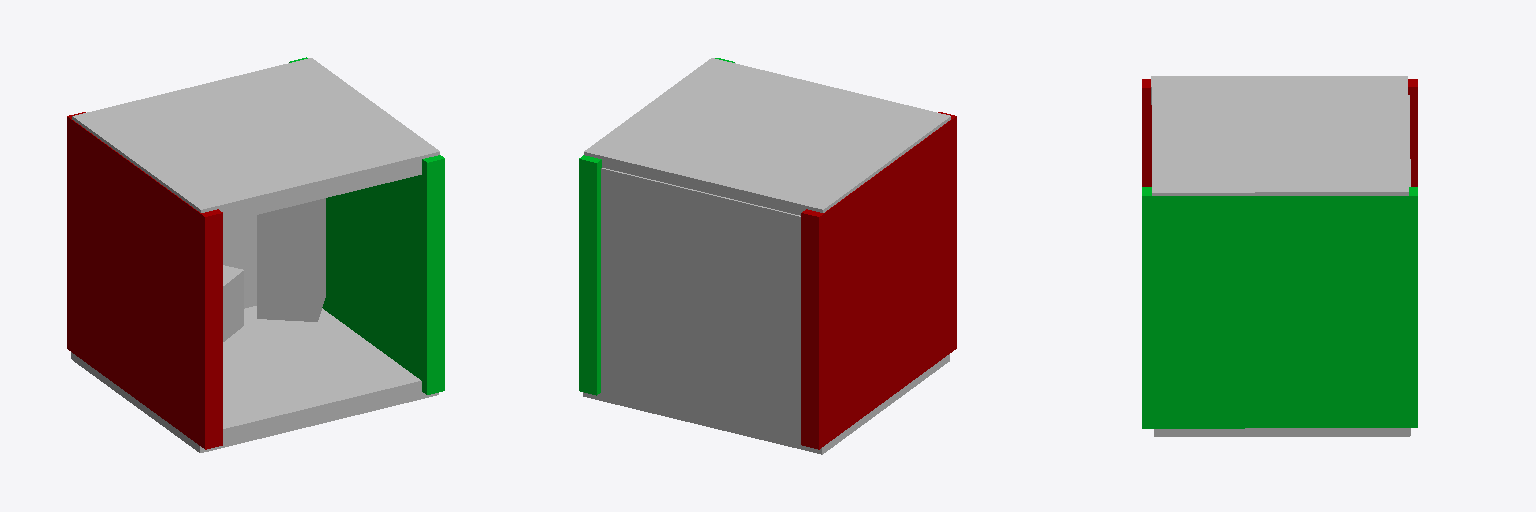
File: mocheng.obj
3 views of the same model, side by side, from view 1: azimuth 30°, elevation 25°; view 2: azimuth 150°, elevation 25°; view 3: azimuth 270°, elevation 25° (orthographic).
Visible parts, largest first — view 1: left_left, top_top, right_right, bottom_bottom, longcube_longcube, behind_behind, Cube_Cube; view 2: behind_behind, left_left, top_top, right_right, bottom_bottom; view 3: right_right, top_top, bottom_bottom, left_left.
Boxes of the visible parts, x1,y1,x2,y2 form: left_left: [67, 112, 222, 449]; top_top: [72, 58, 439, 222]; right_right: [289, 57, 444, 394]; bottom_bottom: [72, 306, 438, 452]; longcube_longcube: [257, 198, 325, 321]; behind_behind: [71, 215, 256, 366]; Cube_Cube: [223, 265, 243, 341]; behind_behind: [583, 168, 832, 454]; left_left: [801, 112, 956, 449]; top_top: [584, 58, 950, 215]; right_right: [579, 58, 734, 395]; bottom_bottom: [599, 354, 949, 454]; right_right: [1142, 187, 1417, 428]; top_top: [1151, 76, 1408, 195]; bottom_bottom: [1154, 428, 1409, 436]; left_left: [1142, 79, 1417, 186].
Size of the model in its own units: 9.02 by 8.75 by 8.99.